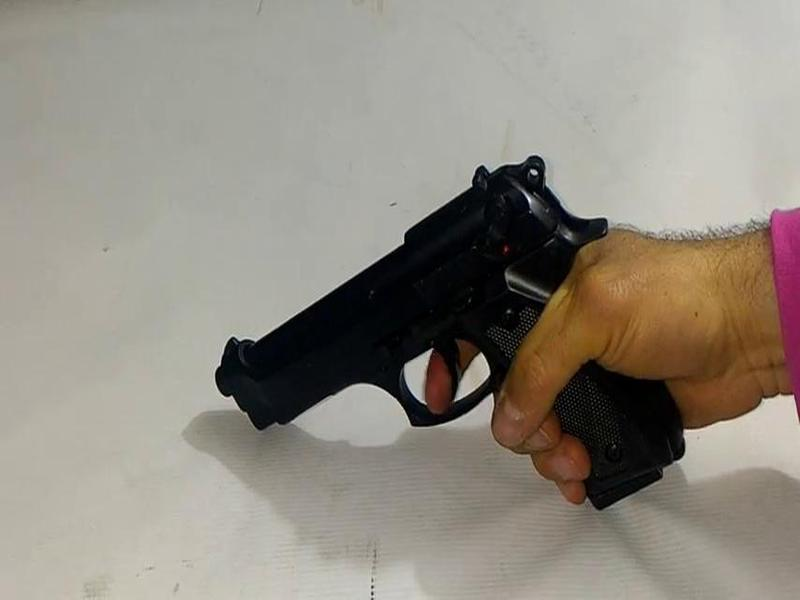Pistola: (208, 146, 700, 499)
